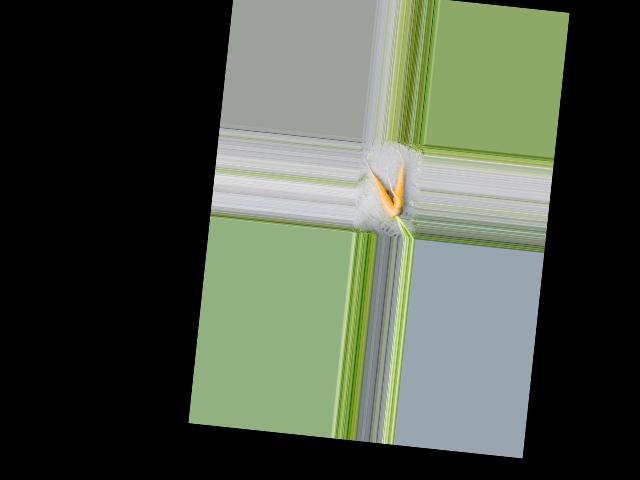carrot: (385, 149, 414, 212)
